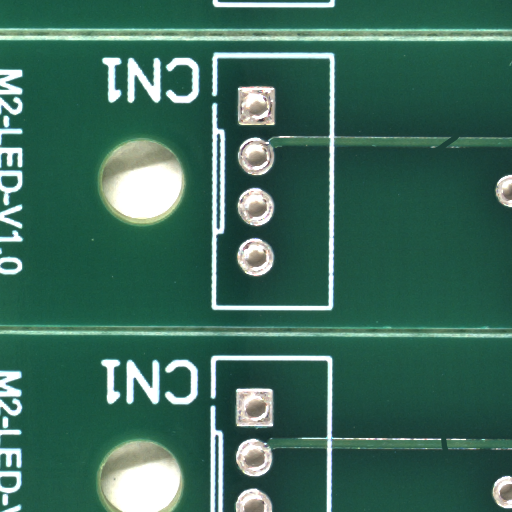Open_circuit: (447, 142, 472, 155), (444, 444, 454, 459)
